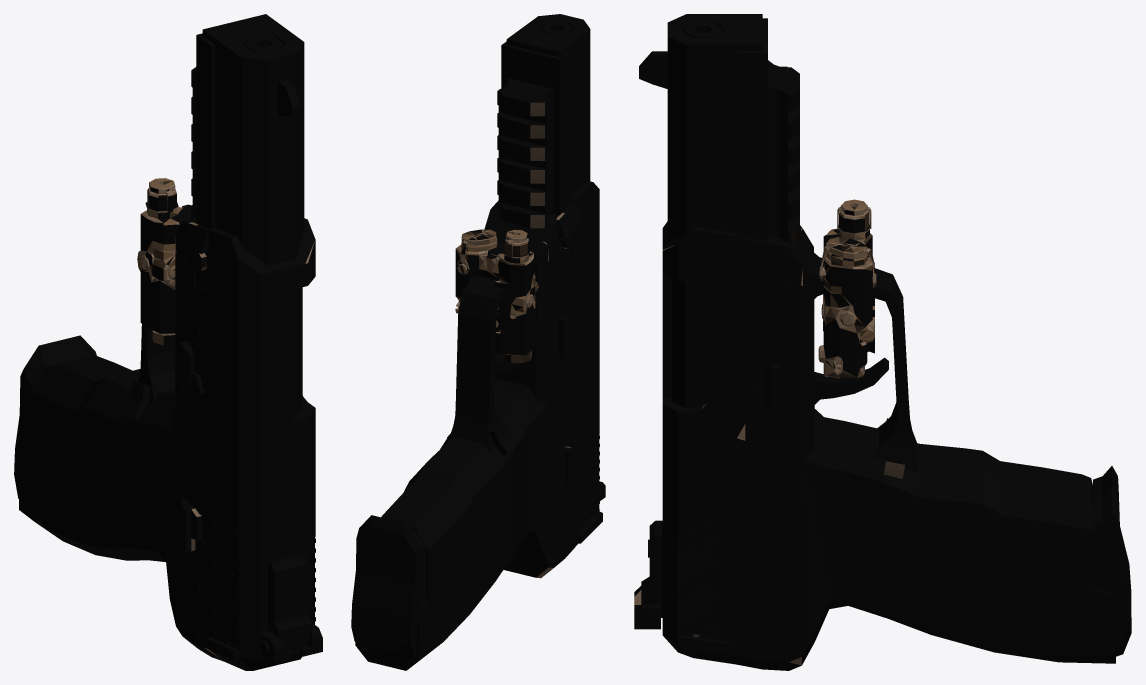
File: FN_FiveSeven__Laser_Pistol.fbx
3 renders of one model, left to right at view 1: azimuth 30°, elevation 25°; view 2: azimuth 150°, elevation 25°; view 3: azimuth 270°, elevation 25°, orthographic. The views are drawn at different scales.
Visible parts, largest first — view 1: asset_FN_FiveSeven.001; view 2: asset_FN_FiveSeven.001; view 3: asset_FN_FiveSeven.001.
Part boxes in pixels (left/top/right/bottom): asset_FN_FiveSeven.001: left=14, top=14, right=322, bottom=670; asset_FN_FiveSeven.001: left=351, top=14, right=605, bottom=670; asset_FN_FiveSeven.001: left=634, top=14, right=1131, bottom=670.
Bounding box in the file's own units: 0.0204 × 0.1284 × 0.0918.
